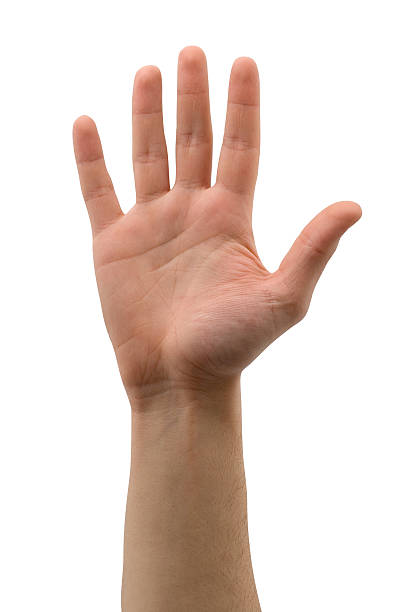non-diseased: (74, 45, 362, 392)
